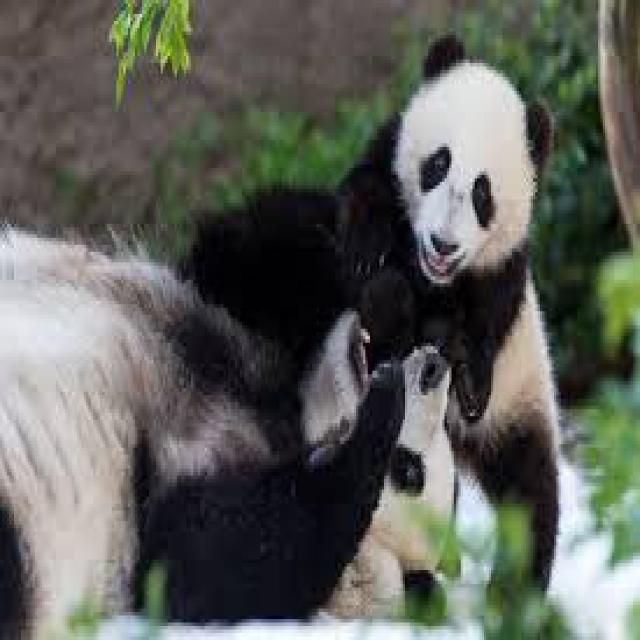Panda: (192, 30, 640, 640), (0, 164, 456, 636)
